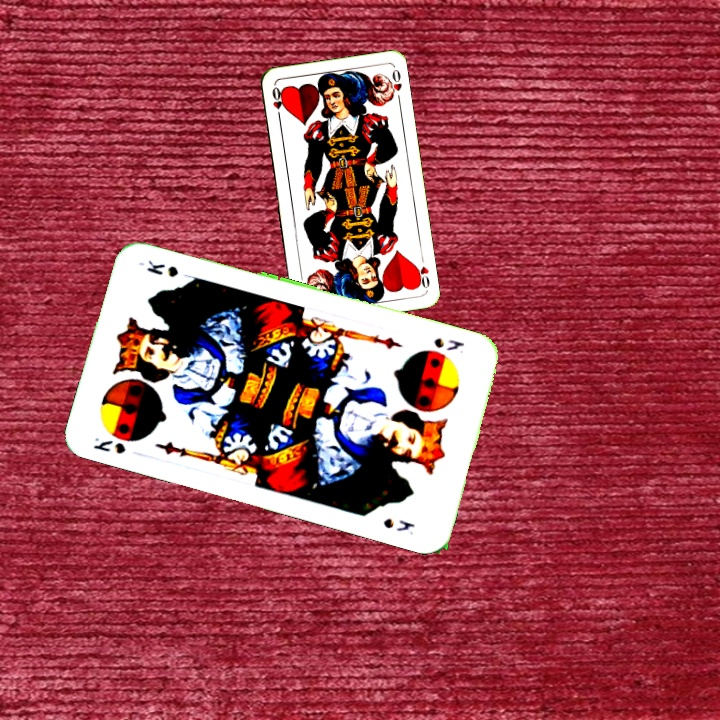HO: (268, 83, 286, 123), (411, 261, 432, 291)
SK: (89, 433, 128, 457), (429, 333, 467, 353)
